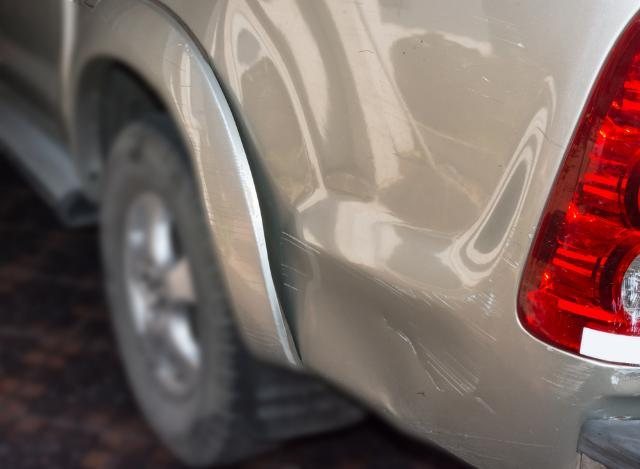dent: (299, 246, 488, 414)
scratch: (166, 50, 287, 352), (458, 219, 531, 353), (411, 419, 556, 468), (536, 359, 598, 400)
